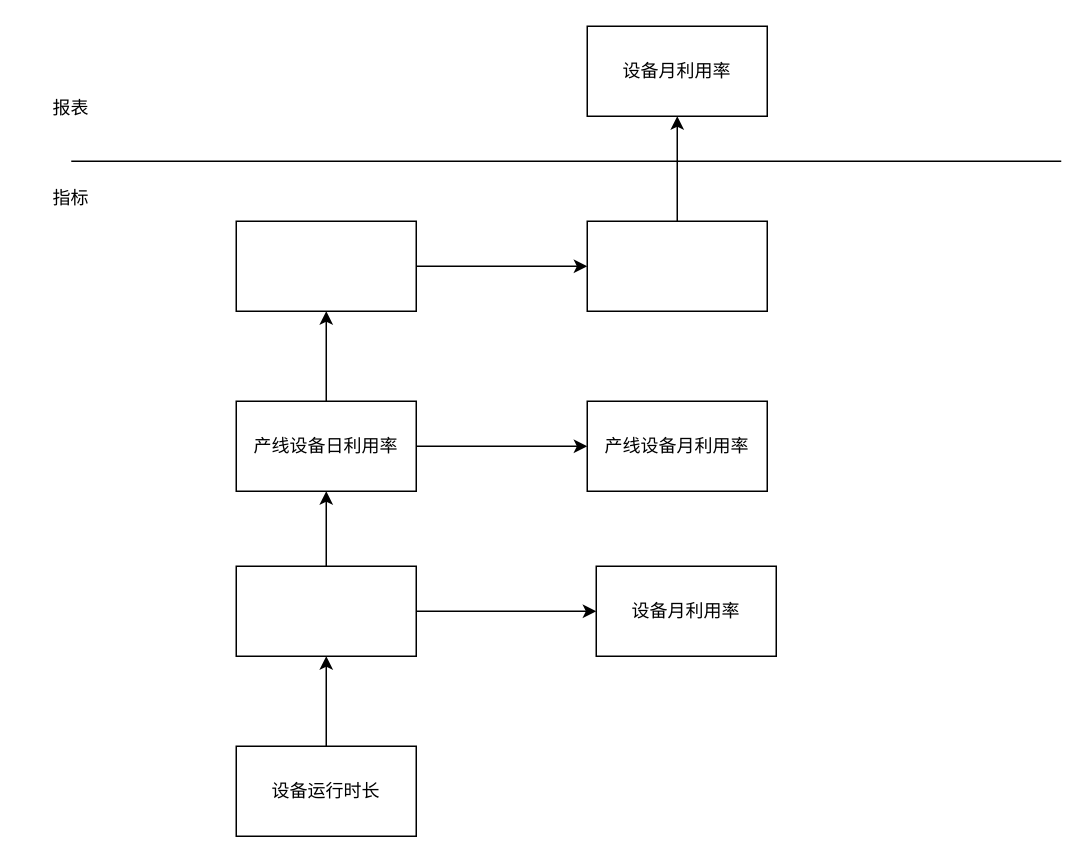
Image size: 1089x863. Some labels were removed from this diagram. The shapes that lost their labels are listed below. From the top down, each one's box as (x1, y1, x2, y2) in pixels, then its label:
(235, 220, 416, 311): 工厂设备日利用率
(586, 220, 767, 311): 工厂设备月利用率
(235, 565, 416, 656): 设备日利用率
